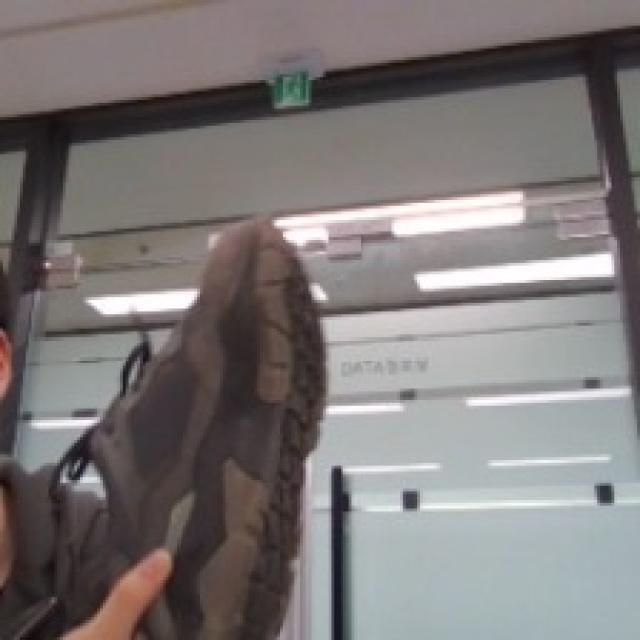shoe: (81, 134, 366, 640)
